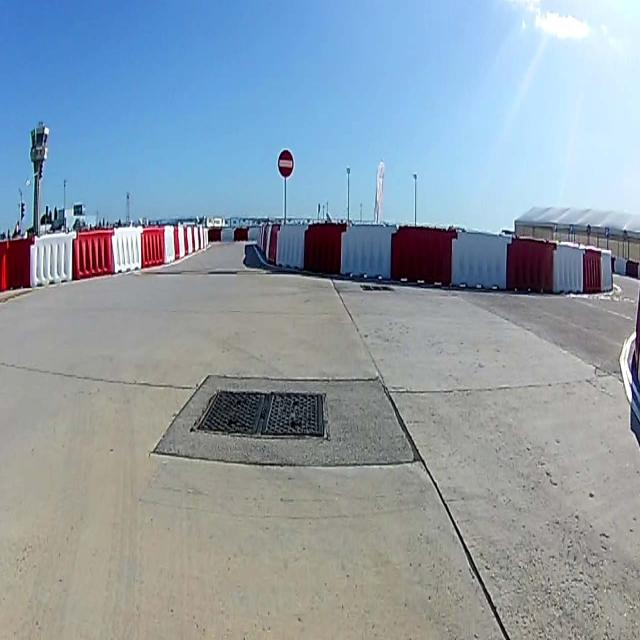girisyok: (278, 150, 294, 178)
